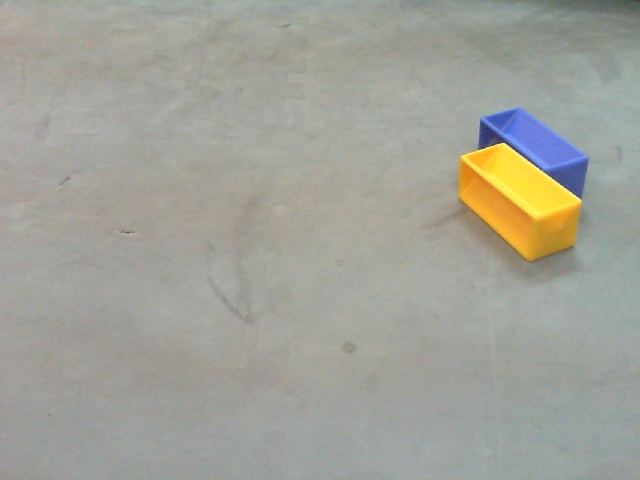BlueSample: (476, 106, 591, 204)
YellowSample: (457, 141, 584, 263)
